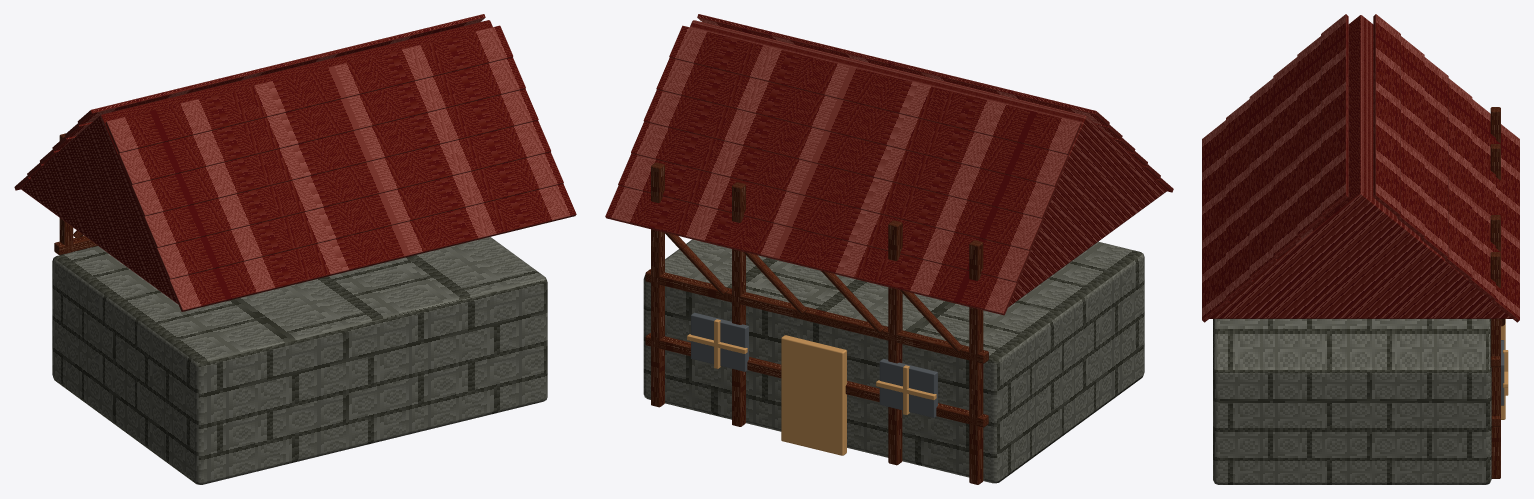
The model's file is inn.glb.
The picture shows the model from 3 angles, left to right: view 1: azimuth 30°, elevation 25°; view 2: azimuth 150°, elevation 25°; view 3: azimuth 270°, elevation 25°; orthographic projection. The views are drawn at different scales.
Parts seen in each view (by area): view 1: inn_roof, inn_stone_ground_floor, inn_wood; view 2: inn_roof, inn_stone_ground_floor, inn_wood, inn_wood_light, inn_iron; view 3: inn_roof, inn_stone_ground_floor, inn_wood, inn_wood_light.
Part boxes in pixels (x1,y1,x2,y2): inn_roof: (14, 14, 576, 311); inn_stone_ground_floor: (52, 237, 547, 484); inn_wood: (54, 133, 97, 254); inn_roof: (605, 14, 1173, 315); inn_stone_ground_floor: (643, 239, 1144, 483); inn_wood: (645, 162, 988, 484); inn_wood_light: (687, 319, 936, 455); inn_iron: (691, 312, 937, 417); inn_roof: (1202, 14, 1519, 322); inn_stone_ground_floor: (1213, 319, 1491, 484); inn_wood: (1490, 107, 1505, 478); inn_wood_light: (1501, 319, 1508, 419).
Bounding box in the file's own units: 7.38 × 5.74 × 5.47.
Materials: 5 (3 with a texture image).
